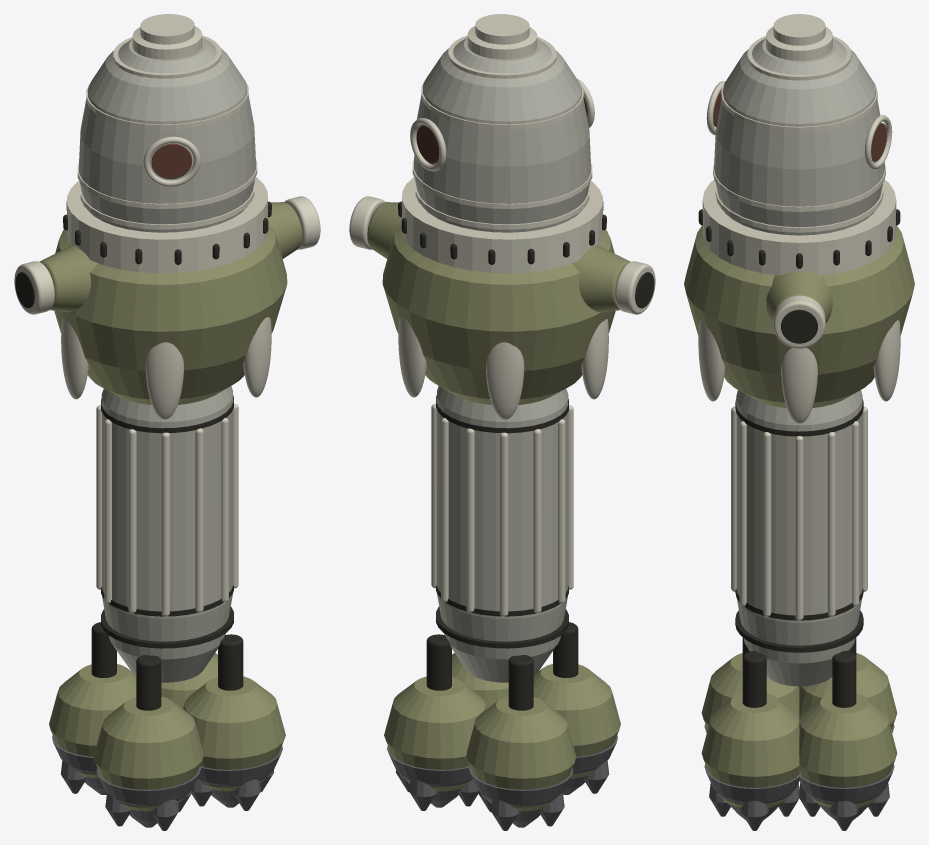
Rendered from mk2-mine.glb.
3 views of the same model, side by side, from view 1: azimuth 30°, elevation 25°; view 2: azimuth 150°, elevation 25°; view 3: azimuth 270°, elevation 25° (orthographic).
Parts seen in each view (by area): view 1: Long alloy drill drive barrel, Upper coolant casing, Olive slurry pressure chamber, Equatorial pale clamp collar, Independent multi-head drill 2, Independent multi-head drill 3, Independent multi-head drill 1, Upper cap service boss, Slurry recovery flared manifold, Pale pressure chamber brace.004, Carbon cutting crown 2, Long drill drive barrel rib.008 (+28 smaller); view 2: Long alloy drill drive barrel, Upper coolant casing, Olive slurry pressure chamber, Equatorial pale clamp collar, Independent multi-head drill 1, Independent multi-head drill 0, Independent multi-head drill 2, Upper cap service boss, Slurry recovery flared manifold, Pale pressure chamber brace.002, Carbon cutting crown 1, Long drill drive barrel rib.004 (+28 smaller); view 3: Long alloy drill drive barrel, Upper coolant casing, Olive slurry pressure chamber, Equatorial pale clamp collar, Independent multi-head drill 0, Independent multi-head drill 3, Upper cap service boss, Independent multi-head drill 1, Independent multi-head drill 2, Pale pressure chamber brace, Slurry recovery flared manifold.001, Long drill drive barrel rib (+25 smaller).
Part boxes in pixels (<box>): Long alloy drill drive barrel: <box>101,386,233,682</box>; Upper coolant casing: <box>79,37,255,232</box>; Olive slurry pressure chamber: <box>54,226,287,404</box>; Equatorial pale clamp collar: <box>67,177,267,273</box>; Independent multi-head drill 2: <box>93,696,203,811</box>; Independent multi-head drill 3: <box>183,676,285,791</box>; Independent multi-head drill 1: <box>49,664,136,778</box>; Upper cap service boss: <box>132,14,202,59</box>; Slurry recovery flared manifold: <box>39,245,97,312</box>; Pale pressure chamber brace.004: <box>145,342,183,419</box>; Carbon cutting crown 2: <box>96,766,200,827</box>; Long drill drive barrel rib.008: <box>161,432,169,616</box>; Long alloy drill drive barrel: <box>436,386,568,682</box>; Upper coolant casing: <box>414,37,590,232</box>; Olive slurry pressure chamber: <box>382,226,615,404</box>; Equatorial pale clamp collar: <box>402,177,602,273</box>; Independent multi-head drill 1: <box>466,696,576,811</box>; Independent multi-head drill 0: <box>384,676,486,791</box>; Independent multi-head drill 2: <box>533,664,620,778</box>; Upper cap service boss: <box>467,14,537,59</box>; Slurry recovery flared manifold: <box>572,245,630,312</box>; Pale pressure chamber brace.002: <box>486,342,524,419</box>; Carbon cutting crown 1: <box>469,766,573,827</box>; Long drill drive barrel rib.004: <box>500,432,508,616</box>; Long alloy drill drive barrel: <box>736,390,862,686</box>; Upper coolant casing: <box>714,38,884,235</box>; Olive slurry pressure chamber: <box>684,225,914,407</box>; Equatorial pale clamp collar: <box>702,179,896,275</box>; Independent multi-head drill 0: <box>799,693,897,807</box>; Independent multi-head drill 3: <box>701,693,799,807</box>; Upper cap service boss: <box>766,14,832,60</box>; Independent multi-head drill 1: <box>799,653,897,729</box>; Independent multi-head drill 2: <box>701,653,799,729</box>; Pale pressure chamber brace: <box>781,348,817,423</box>; Slurry recovery flared manifold.001: <box>766,271,832,323</box>; Long drill drive barrel rib: <box>795,436,803,620</box>.
Size of the model in its own units: 1.78 by 4.61 by 1.24.
